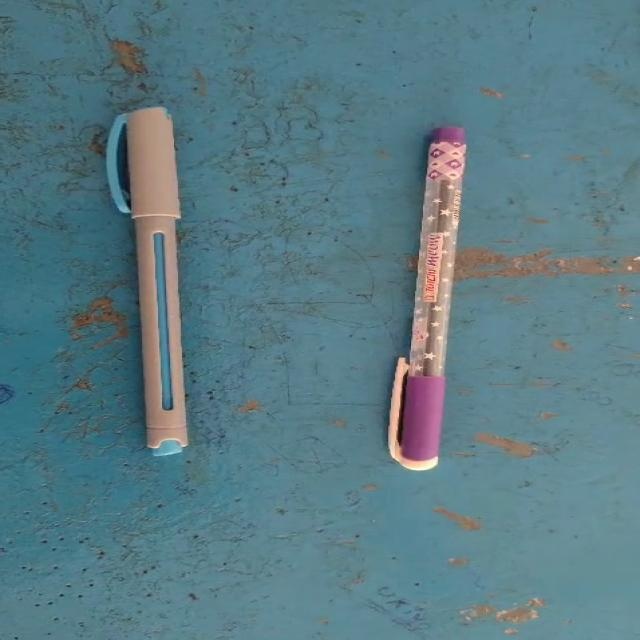pen: (85, 84, 261, 479), (364, 90, 518, 488)
